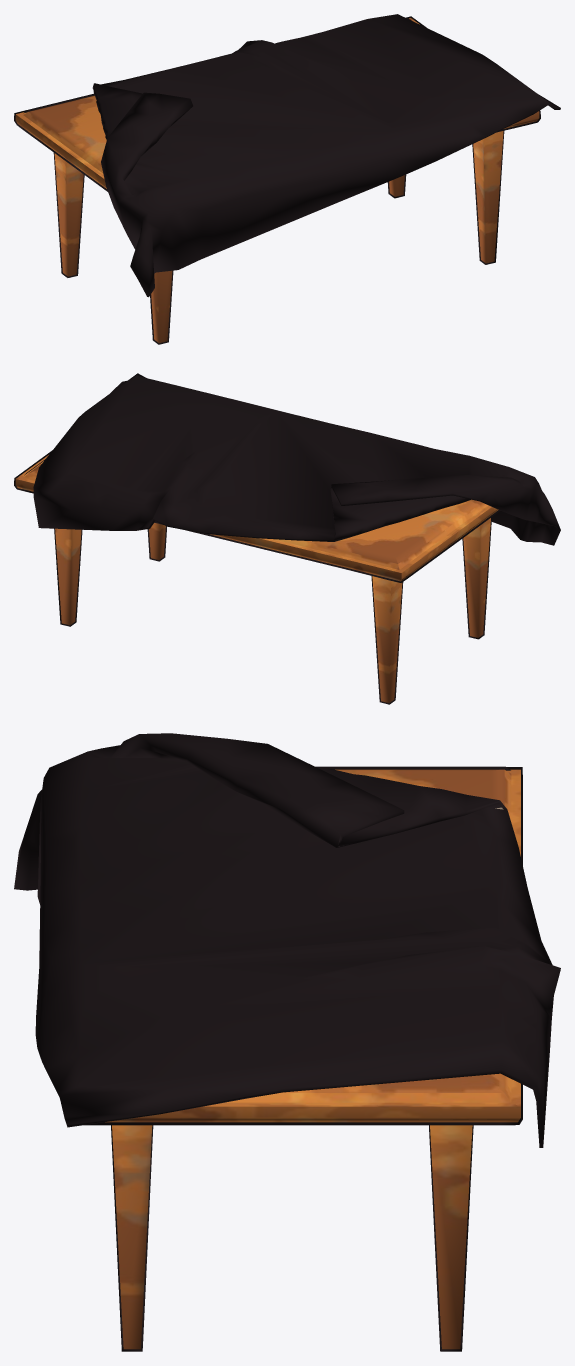
File: SM_Int_DiningTable.fbx
The picture shows the model from 3 angles, top to bottom: view 1: azimuth 30°, elevation 25°; view 2: azimuth 150°, elevation 25°; view 3: azimuth 270°, elevation 25°; orthographic projection. The views are drawn at different scales.
Visible parts, largest first — view 1: SM_Int_DiningTable; view 2: SM_Int_DiningTable; view 3: SM_Int_DiningTable.
Boxes of the visible parts, x1,y1,x2,y2 form: SM_Int_DiningTable: (14, 14, 560, 344); SM_Int_DiningTable: (14, 373, 560, 704); SM_Int_DiningTable: (14, 733, 560, 1351).
Size of what is drawn, in the model's own units: 2.27 by 0.8895 by 1.4.
